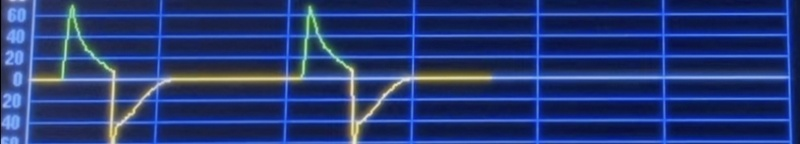normal_flow: (60, 5, 419, 144)
